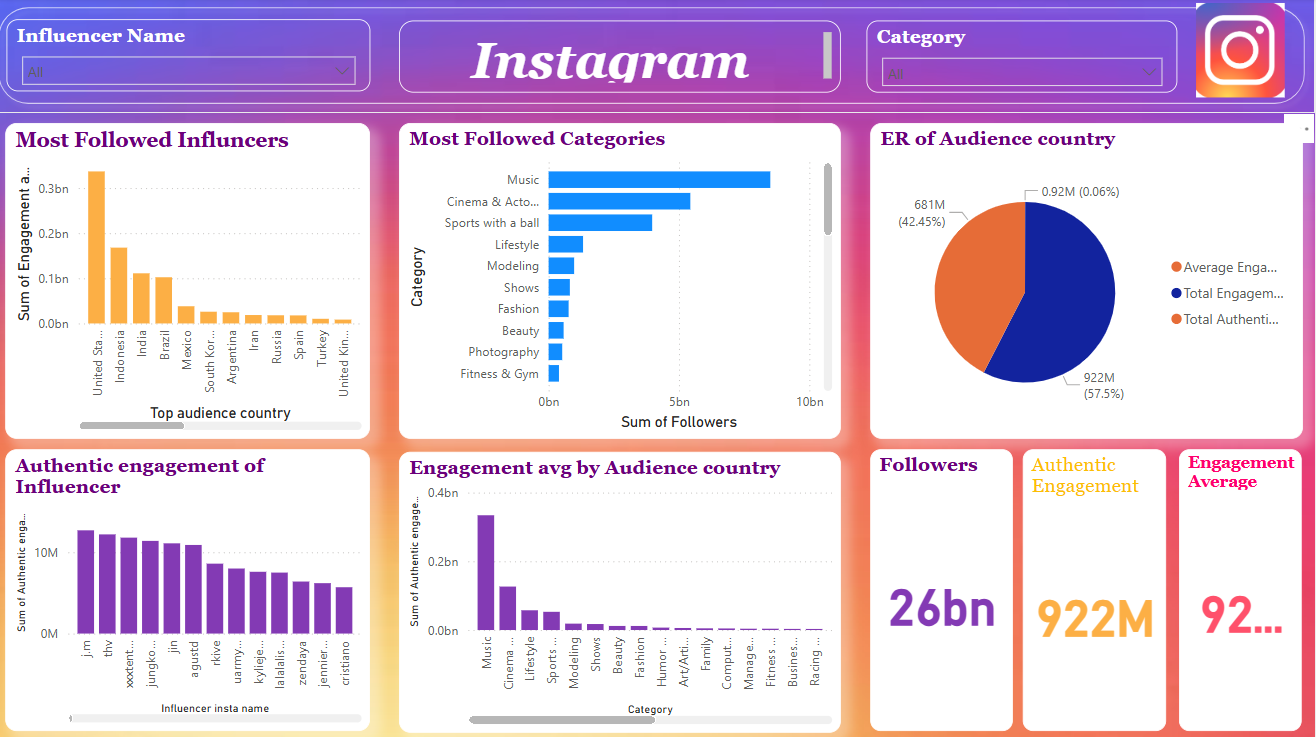

The dashboard page shown, as its layout file describes it:
{"tool":"powerbi","page":{"name":"Page 1","canvas":[1280,720],"ordinal":0},"visuals":[{"type":"shape","box":[0,0,1279.5,111.3],"z":0},{"type":"textbox","box":[395.2,21.2,426.4,69.2],"z":1000},{"type":"clusteredColumnChart","title":"Most Followed Influncers","fields":{"Category":["cleaned_social media influencers - instagram.Top audience country"],"Y":["cleaned_social media influencers - instagram.Engagement average"]},"box":[16.3,120.9,352.3,304.7],"z":2000},{"type":"clusteredBarChart","title":"Most Followed Categories","fields":{"Category":["cleaned_social media influencers - instagram.Category"],"Y":["cleaned_social media influencers - instagram.Followers"]},"box":[395.2,120.6,426.4,304.7],"z":3000},{"type":"pieChart","title":"ER of Audience country","fields":{"Y":["cleaned_social media influencers - instagram.Average Engagement","cleaned_social media influencers - instagram.Total Engagement","cleaned_social media influencers - instagram.Total Authentic Engagement"]},"box":[850,120.9,417.4,304.7],"z":4000},{"type":"slicer","title":"Influencer Name","fields":{"Values":["cleaned_social media influencers - instagram.Influencer insta name"]},"box":[17.5,20.7,351.3,69.9],"z":5000},{"type":"lineStackedColumnComboChart","title":" Authentic engagement of Influencer","fields":{"Category":["cleaned_social media influencers - instagram.Influencer insta name"],"Y":["cleaned_social media influencers - instagram.Authentic engagement"]},"box":[16.3,436,352.3,272.1],"z":6000},{"type":"clusteredColumnChart","title":"Engagement avg by Audience country","fields":{"Y":["cleaned_social media influencers - instagram.Authentic engagement"],"Category":["cleaned_social media influencers - instagram.Category"]},"box":[395.2,437.6,426.4,271.3],"z":7000},{"type":"card","title":"Followers","fields":{"Values":["cleaned_social media influencers - instagram.Total Followers"]},"box":[850,436,137.2,272.1],"z":8000},{"type":"card","title":"Authentic Engagement","fields":{"Values":["cleaned_social media influencers - instagram.Total Engagement"]},"box":[997.7,436,138.4,272.1],"z":9000},{"type":"card","title":"Engagement Average","fields":{"Values":["cleaned_social media influencers - instagram.Average Engagement"]},"box":[1148.8,436,118.6,272.1],"z":10000},{"type":"slicer","title":"Category","fields":{"Values":["cleaned_social media influencers - instagram.Category"]},"box":[847.3,21.2,300.3,69.2],"z":11000},{"type":"image","box":[1157,0,101.3,101.3],"z":12000}]}

Visuals, with their boxes in screenshot pixels (x1, y1, x2, y2), scaled from the page's 1280x720 canvas onto the 1316x737 screenshot:
shape: bbox(0, 0, 1315, 114)
textbox: bbox(406, 22, 845, 93)
"Most Followed Influncers" clusteredColumnChart: bbox(17, 124, 379, 436)
"Most Followed Categories" clusteredBarChart: bbox(406, 123, 845, 435)
"ER of Audience country" pieChart: bbox(874, 124, 1303, 436)
"Influencer Name" slicer: bbox(18, 21, 379, 93)
" Authentic engagement of Influencer" lineStackedColumnComboChart: bbox(17, 446, 379, 725)
"Engagement avg by Audience country" clusteredColumnChart: bbox(406, 448, 845, 726)
"Followers" card: bbox(874, 446, 1015, 725)
"Authentic Engagement" card: bbox(1026, 446, 1168, 725)
"Engagement Average" card: bbox(1181, 446, 1303, 725)
"Category" slicer: bbox(871, 22, 1180, 93)
image: bbox(1190, 0, 1294, 104)
